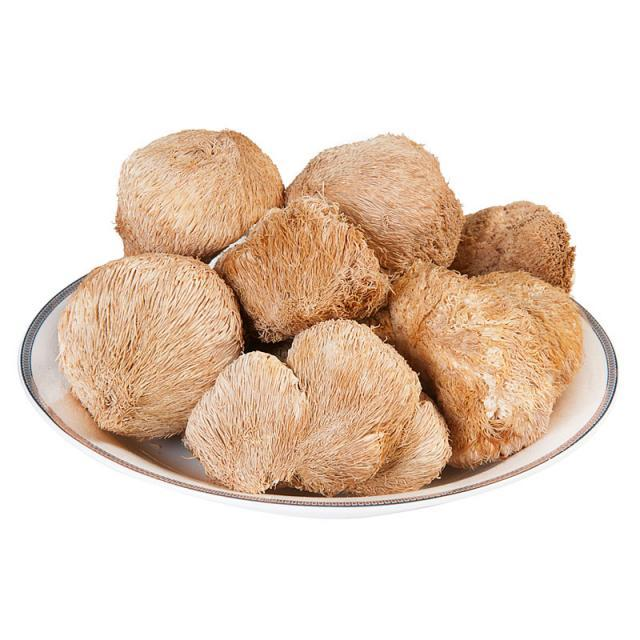Hericium erinaceus: (390, 262, 581, 468), (66, 255, 236, 434), (291, 318, 452, 493), (218, 203, 385, 340), (286, 135, 459, 265), (115, 131, 277, 256), (183, 351, 309, 487), (455, 197, 581, 289)
